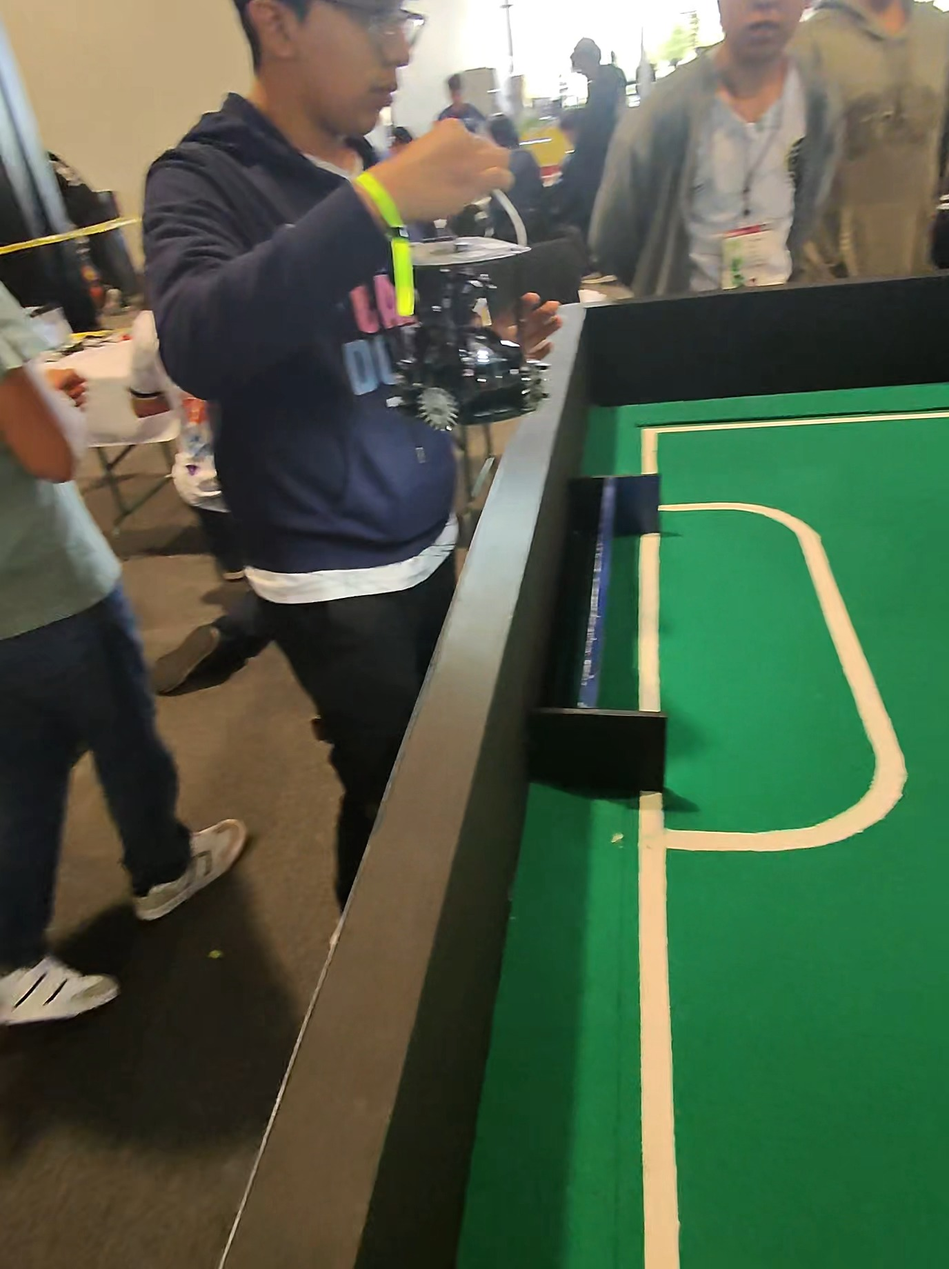Robot: (384, 234, 561, 433)
